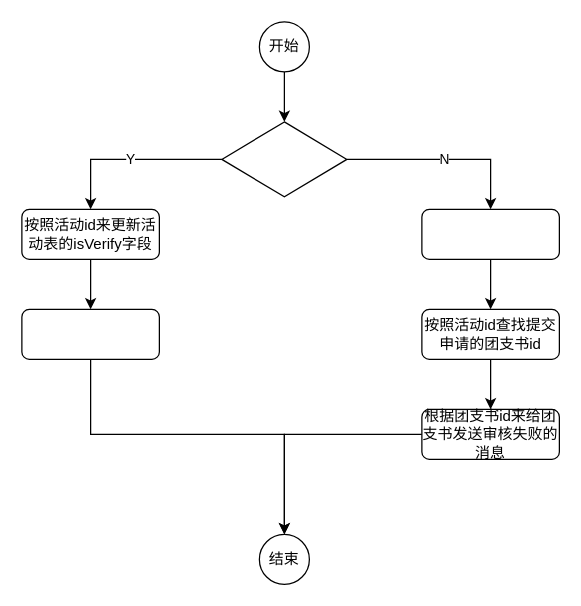
Image size: 581x606. Some labels were removed from this diagram. Here are the shapes that lost their labels. From the top down, the centre of each, then its label:
(284,159): 选择审核通过 or 审核不通过
(490,233): 按照活动id来删除指定的活动
(90,333): 根据团支书id来给团支书发送审核成功的消息
